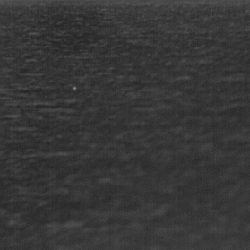dim target: (71, 85, 77, 91)
